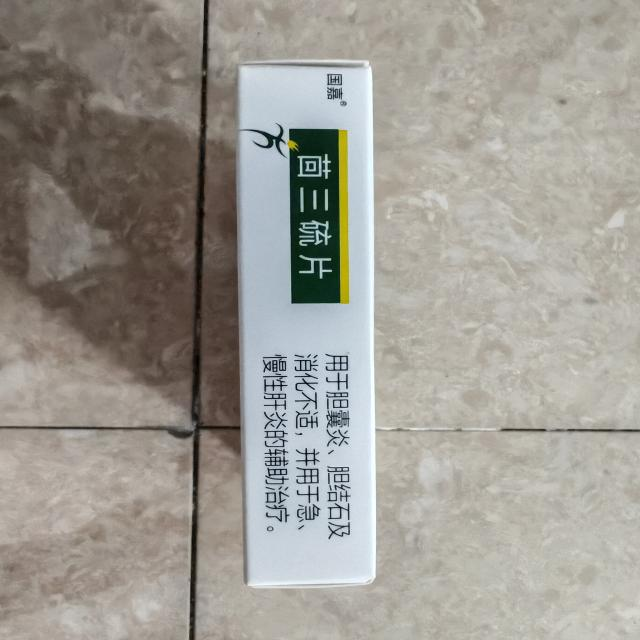box: (225, 55, 394, 598)
